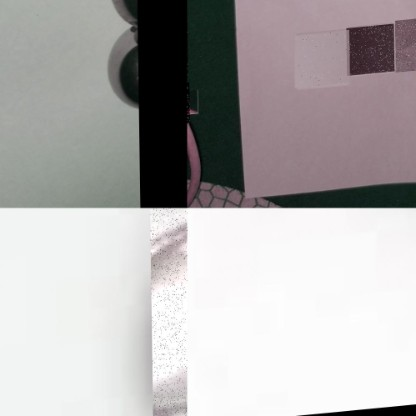ironball: (149, 208, 187, 415), (294, 34, 348, 92), (111, 28, 141, 113), (345, 29, 393, 80), (393, 23, 415, 78)
